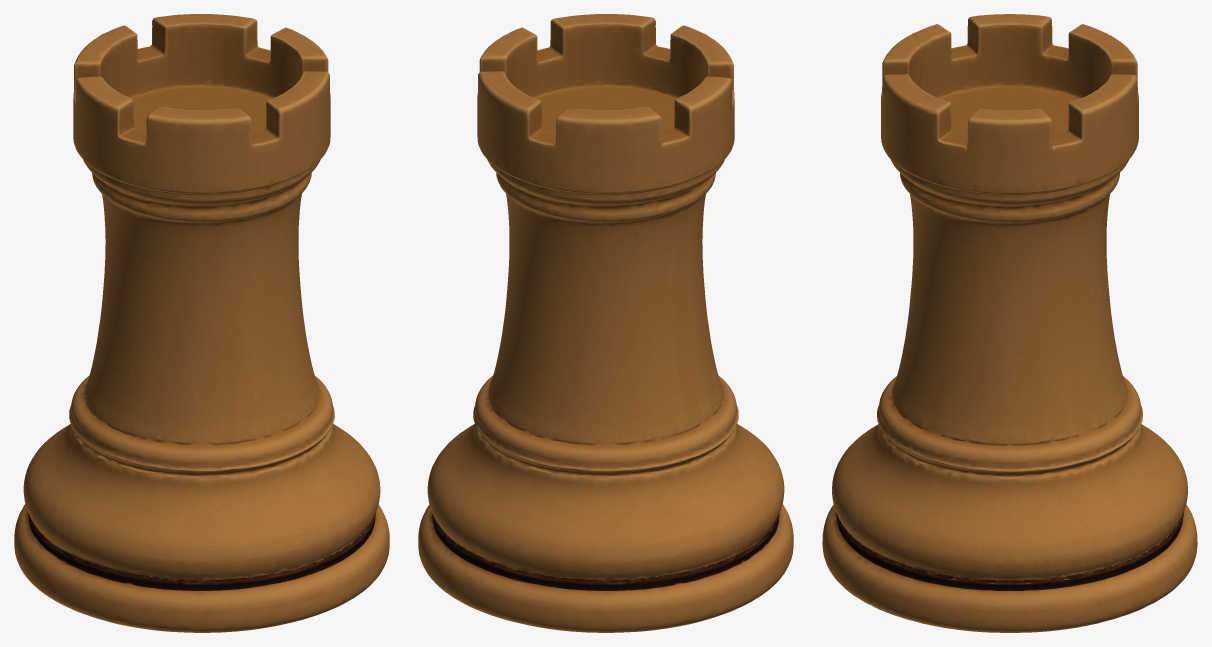
File: 09_rook_light.glb
3 views of the same model, side by side, from view 1: azimuth 30°, elevation 25°; view 2: azimuth 150°, elevation 25°; view 3: azimuth 270°, elevation 25° (orthographic).
Parts seen in each view (by area): view 1: world; view 2: world; view 3: world.
Part boxes in pixels (x1,y1,x2,y2): world: [14, 14, 389, 632]; world: [418, 14, 793, 632]; world: [822, 14, 1197, 632].
Bounding box in the file's own units: 0.6907 × 1 × 0.6907.
Materials: 1 (1 with a texture image).
